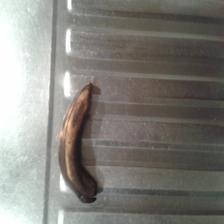Banana Rotten: (56, 73, 115, 197)
